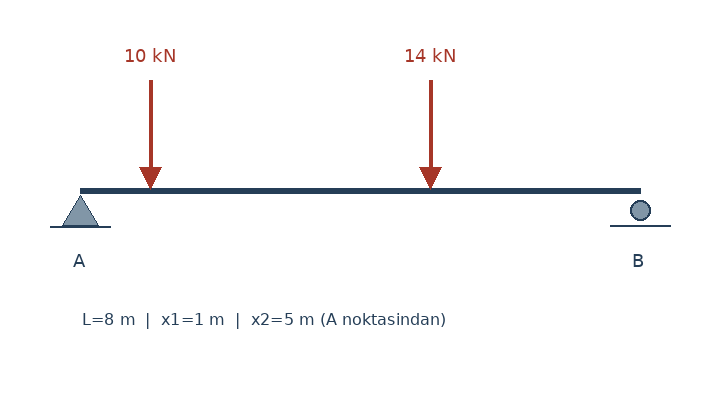pin_support: (61, 190, 99, 226)
point_load: (136, 76, 164, 190), (416, 76, 444, 190)
roller_support: (625, 196, 655, 227)
